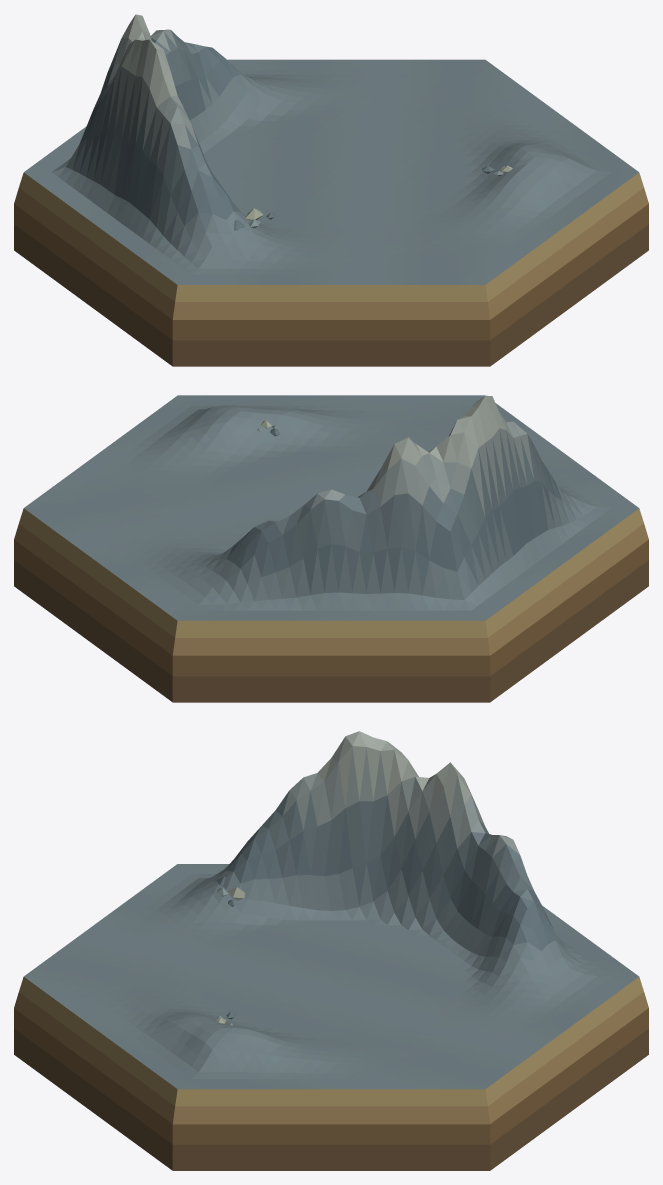
Rendered from catan_terrain_ore_01.glb.
The picture shows the model from 3 angles, top to bottom: view 1: azimuth 30°, elevation 25°; view 2: azimuth 150°, elevation 25°; view 3: azimuth 270°, elevation 25°; orthographic projection.
Visible parts, largest first — view 1: catan_terrain_ore_01_ground, catan_terrain_ore_01_decoration; view 2: catan_terrain_ore_01_ground; view 3: catan_terrain_ore_01_ground.
Part boxes in pixels (x1=…): catan_terrain_ore_01_ground: x1=14, y1=14, x2=648, y2=366; catan_terrain_ore_01_decoration: x1=234, y1=165, x2=512, y2=230; catan_terrain_ore_01_ground: x1=14, y1=395, x2=648, y2=702; catan_terrain_ore_01_ground: x1=14, y1=731, x2=648, y2=1170.
Size of the model in its own units: 1.71 by 0.8273 by 1.97.
